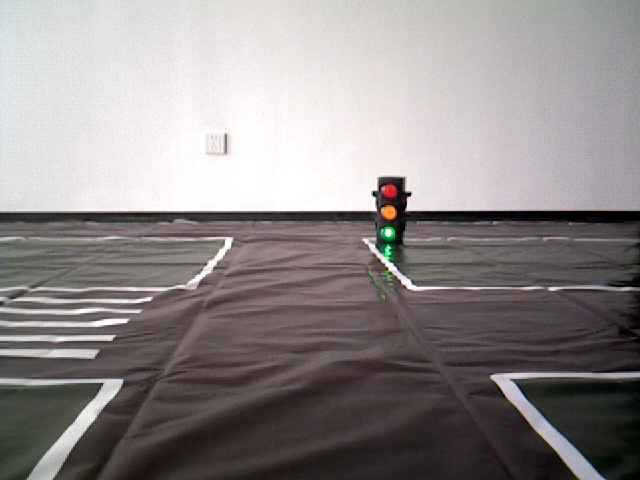green: (378, 175, 403, 243)
